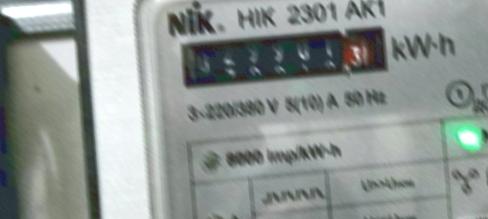0: (293, 37, 310, 63), (193, 52, 209, 75)
1: (320, 35, 334, 60)
2: (218, 44, 235, 68)
3: (346, 44, 362, 69)
9: (269, 41, 283, 65), (244, 42, 258, 64)
screen: (170, 19, 396, 99)
